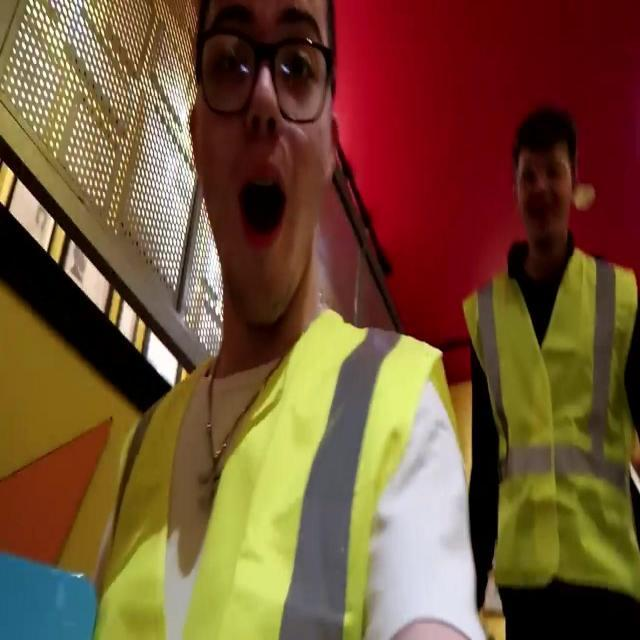reflective_jacket: (87, 315, 460, 633), (460, 247, 639, 598)
